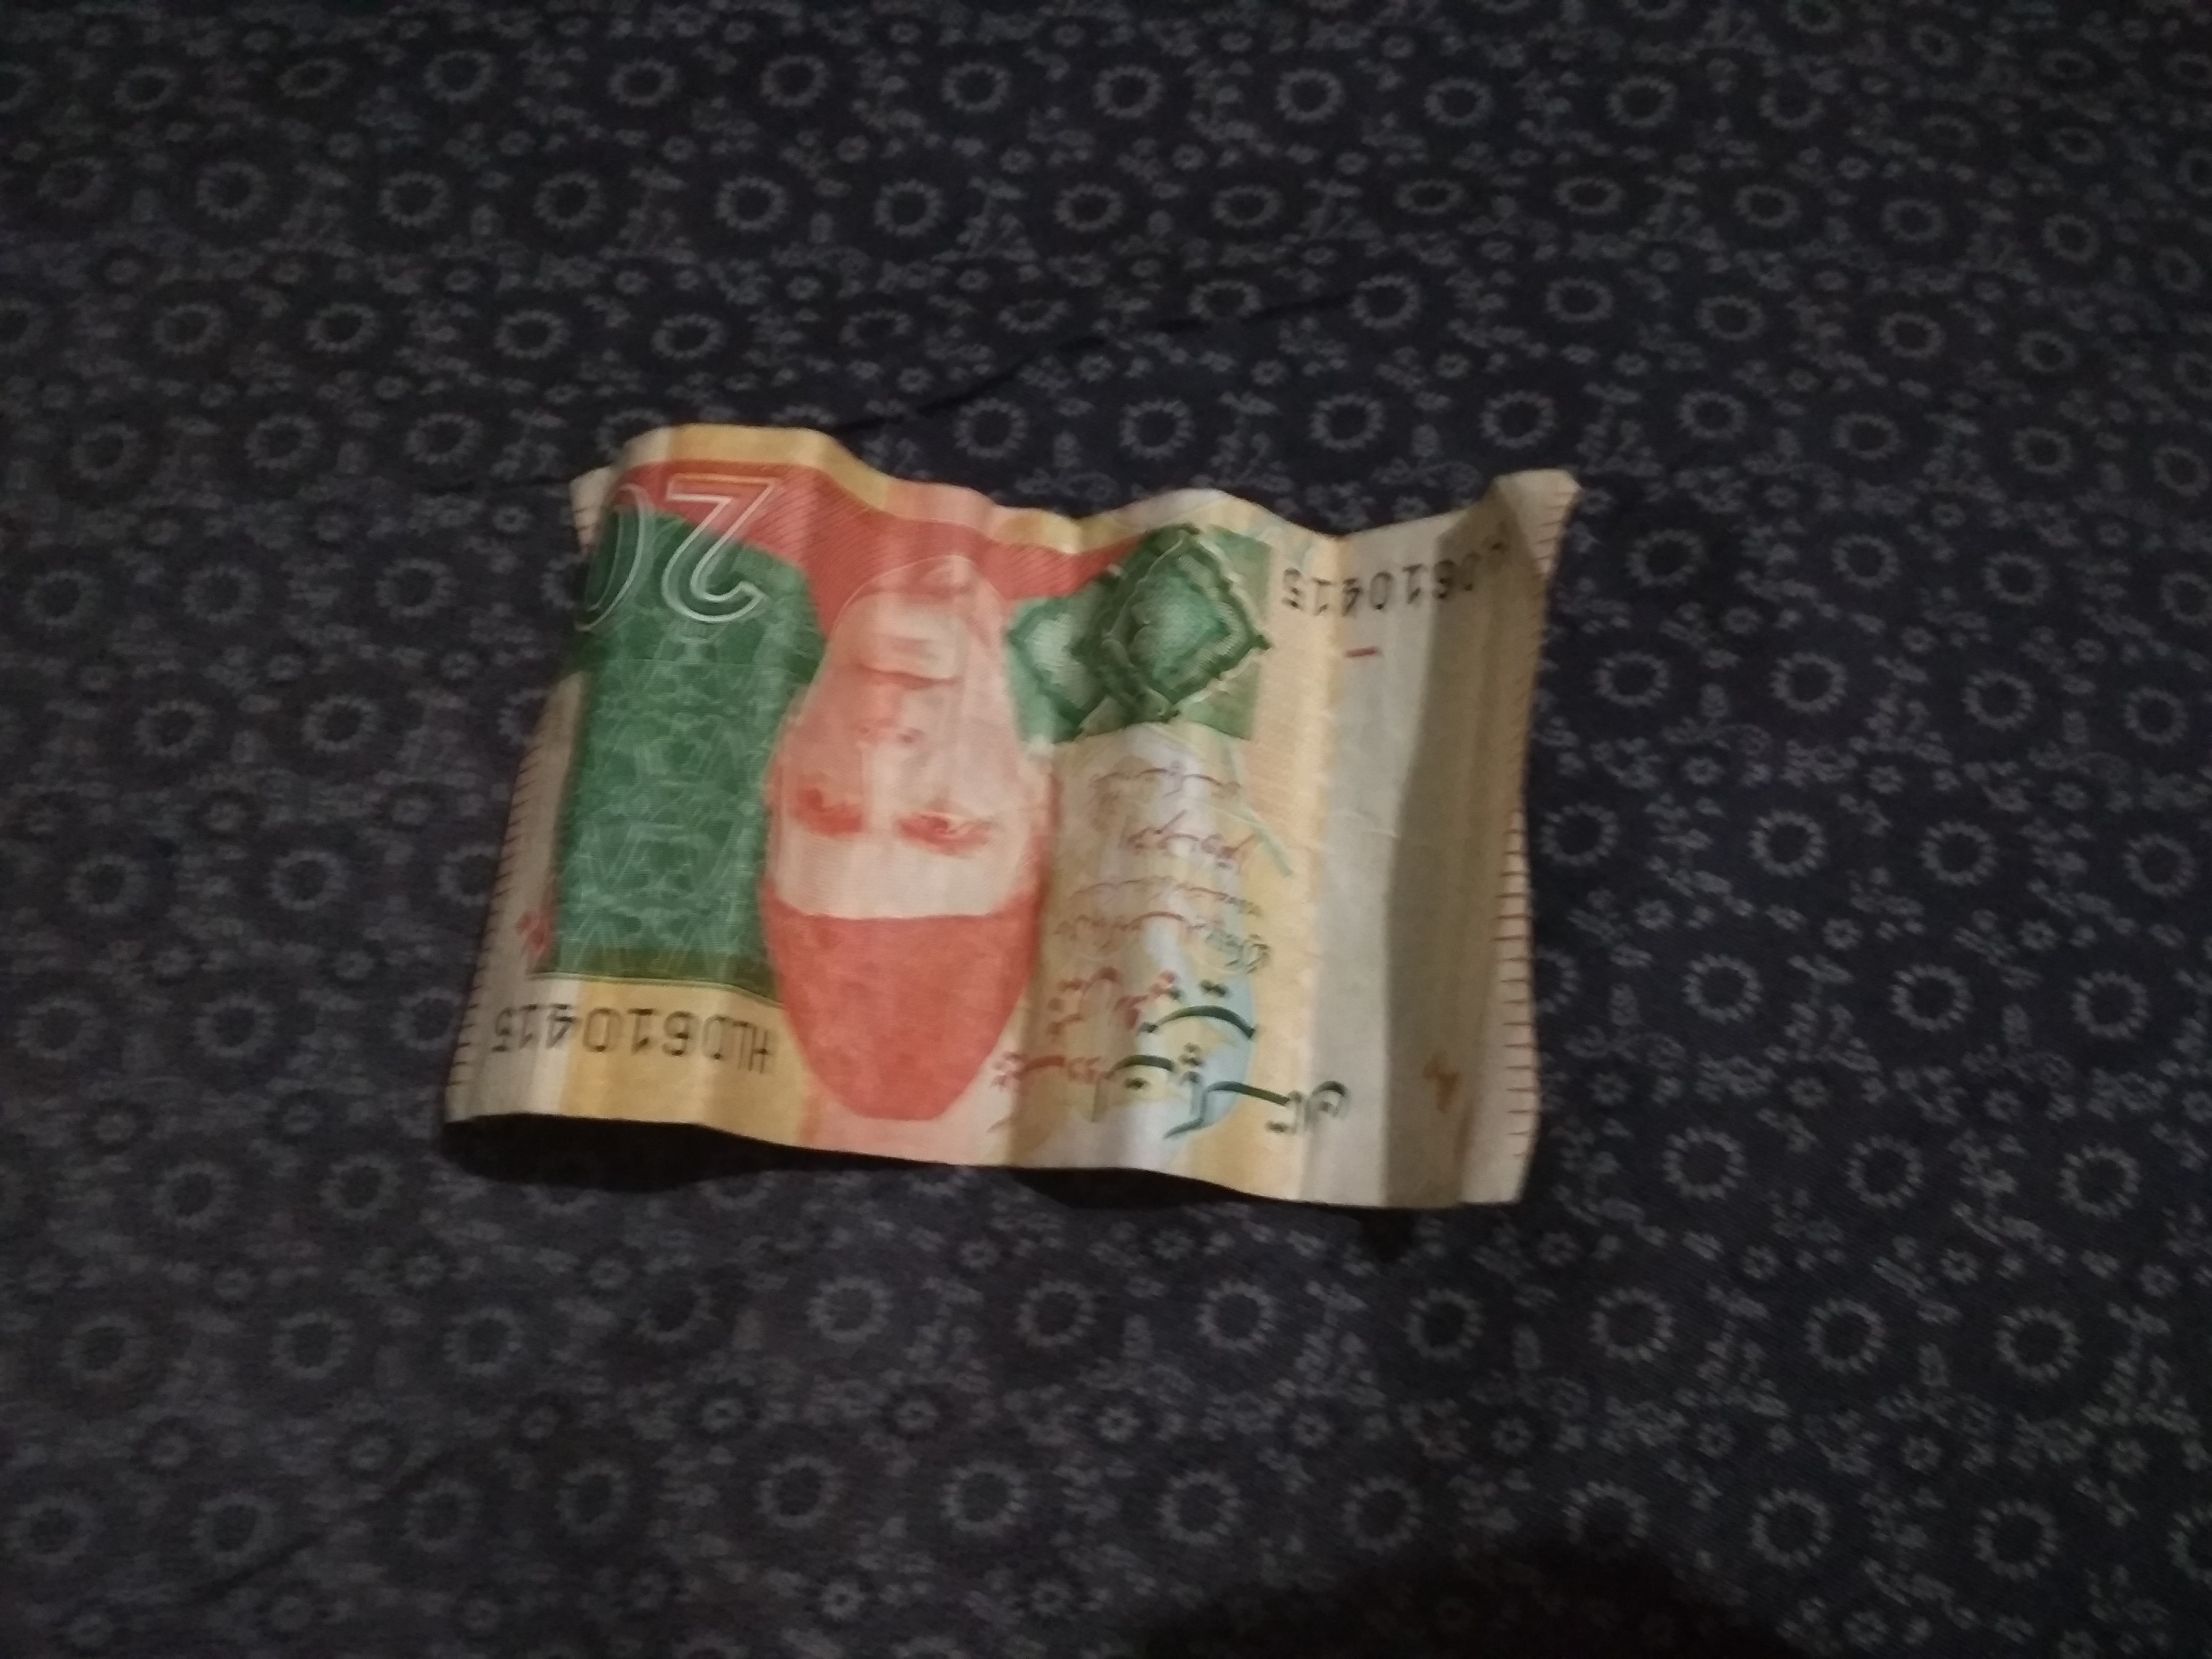20 rupee: (343, 364, 1670, 1342)
